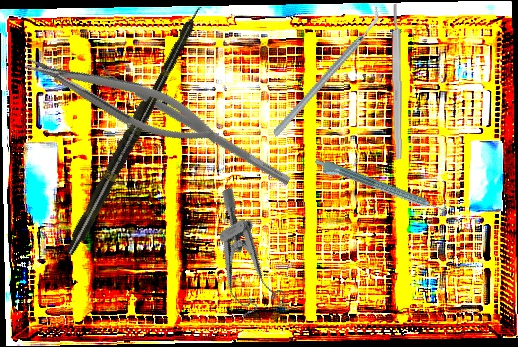Chopper: (243, 6, 410, 138)
Handpiece: (61, 71, 172, 259), (311, 156, 448, 221), (134, 3, 205, 128)
Needle Holder: (19, 36, 226, 161)
Scalpel Handle: (391, 3, 403, 160)
Spatula Surgical: (95, 58, 297, 186)
Speculum: (181, 186, 299, 328)
